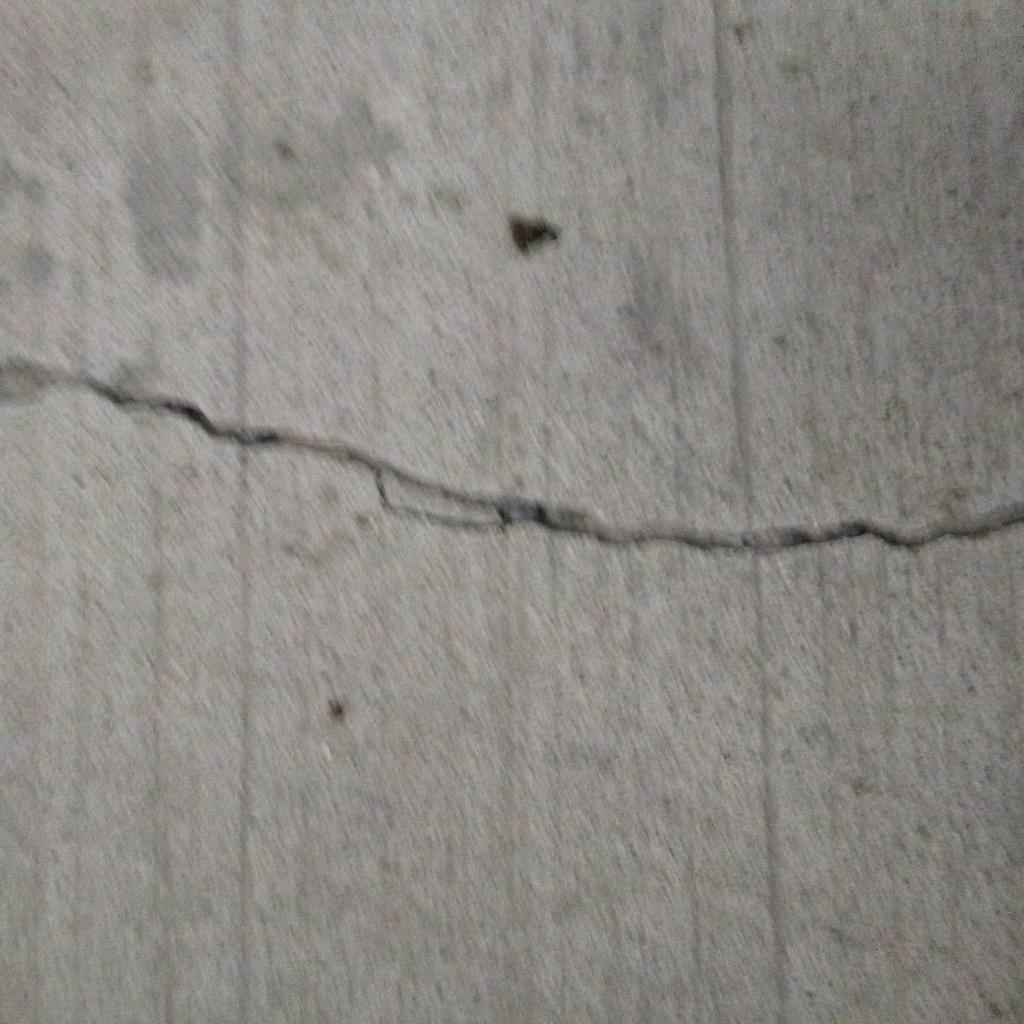Crack: (1, 354, 1024, 555)
Spalling: (507, 212, 558, 260)
